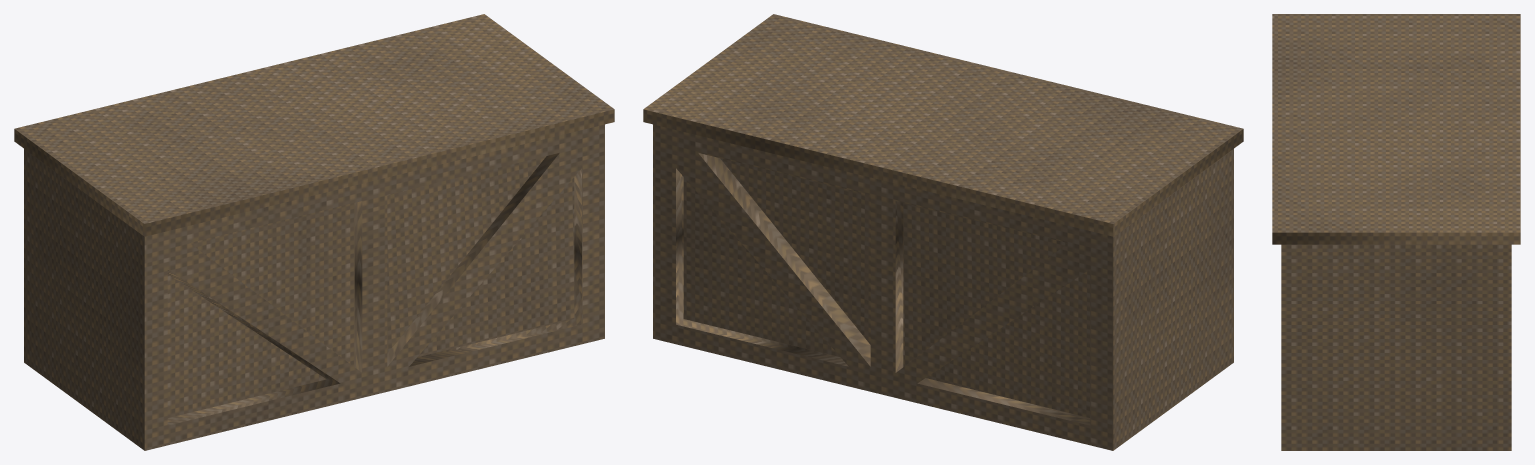
Rendered from crate2.fbx.
3 renders of one model, left to right at view 1: azimuth 30°, elevation 25°; view 2: azimuth 150°, elevation 25°; view 3: azimuth 270°, elevation 25°, orthographic. The views are drawn at different scales.
Visible parts, largest first — view 1: crate2; view 2: crate2; view 3: crate2.
Part boxes in pixels (x1=…): crate2: x1=14, y1=14, x2=614, y2=450; crate2: x1=643, y1=14, x2=1243, y2=450; crate2: x1=1272, y1=14, x2=1520, y2=450.
Bounding box in the file's own units: 7.86 × 3.7 × 3.77.
